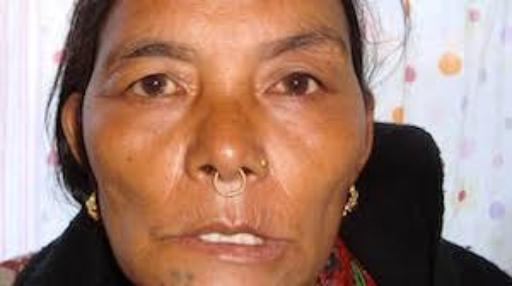left_eye: (267, 72, 335, 100)
left_lip_corner: (257, 226, 296, 253)
right_eye: (122, 74, 192, 101)
right_lip_corner: (145, 225, 195, 246)
